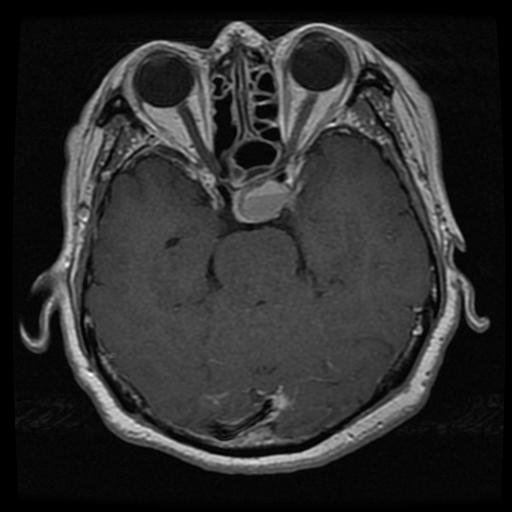Pituirity_tumour: (232, 181, 294, 223)
